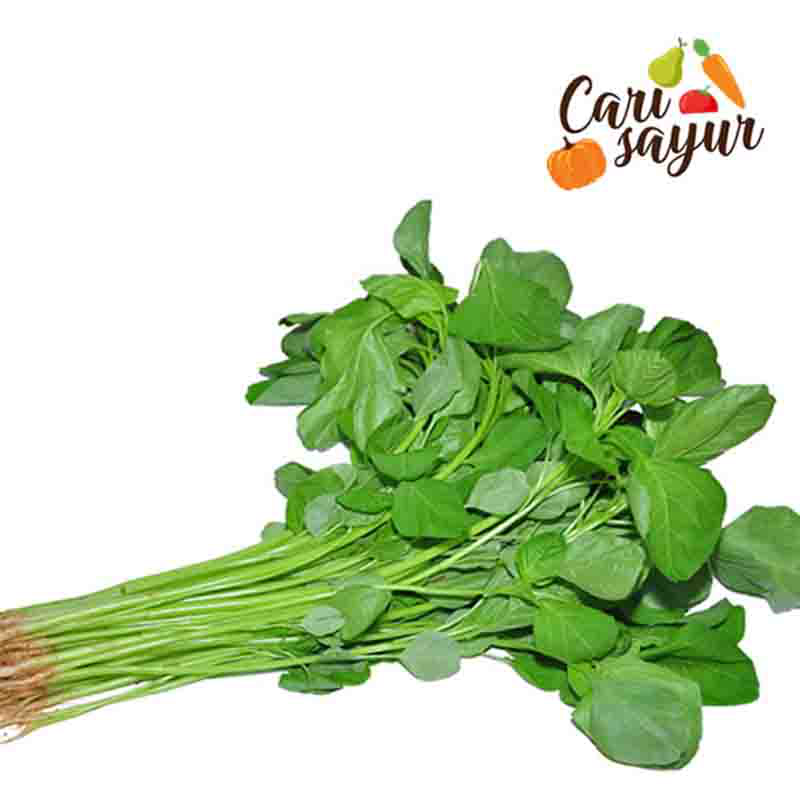Bayam: (1, 203, 779, 797)
